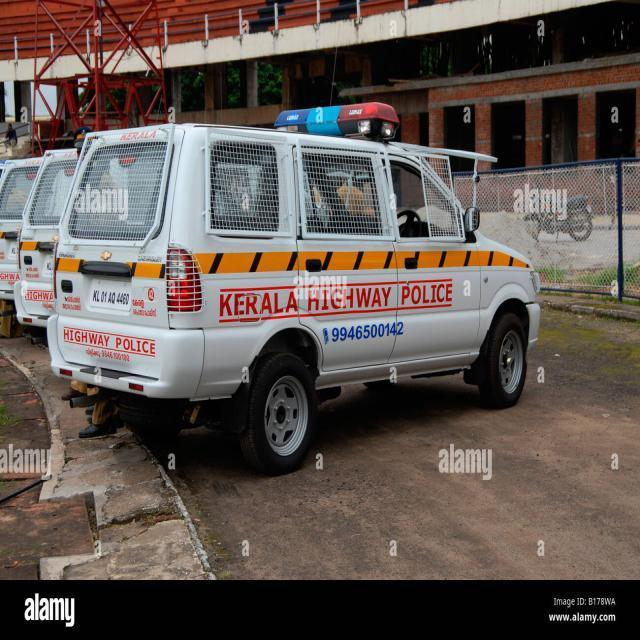Ambulance: (43, 100, 545, 478), (2, 293, 638, 581), (11, 146, 84, 338)
